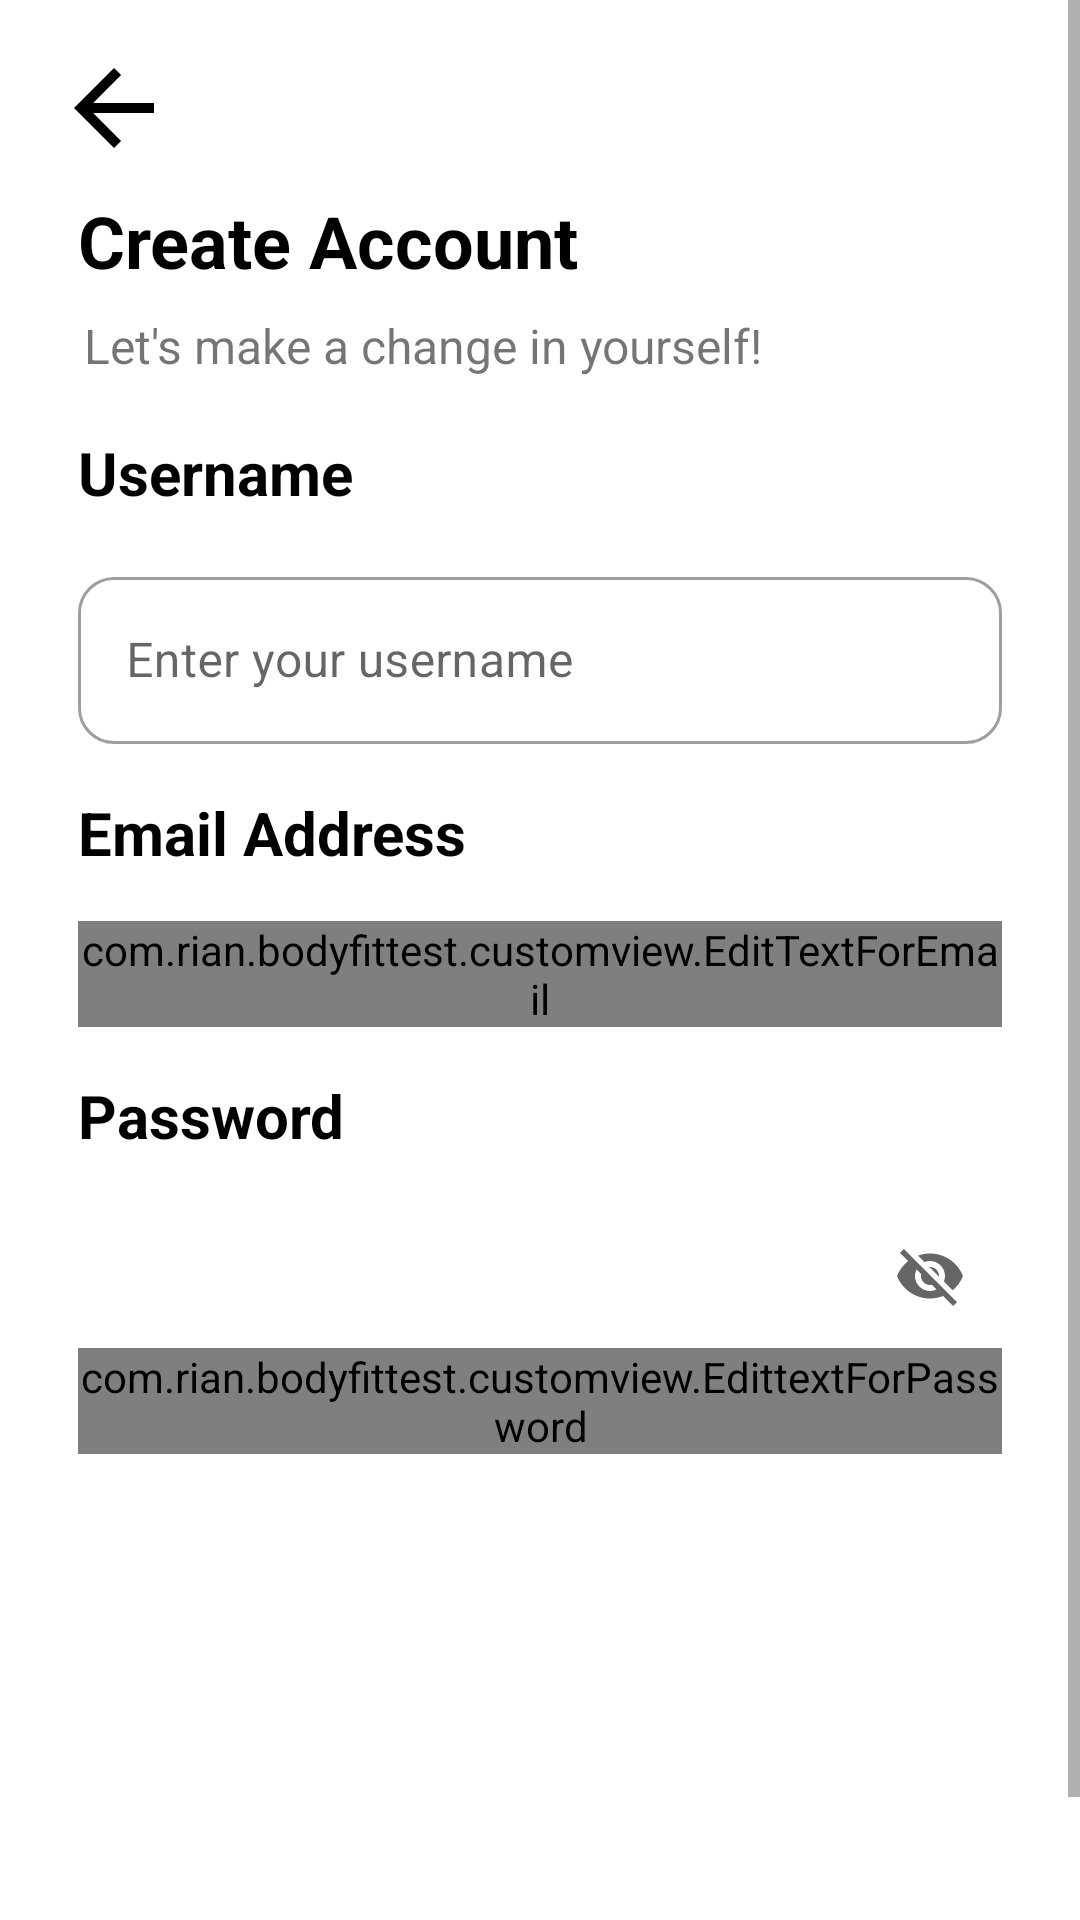

Icons on this 1080px x 1920px Android screen, each with its box as (x1=x1, y1=y1, x2=x2, y2=y2):
arrow back: (x1=74, y1=68, x2=154, y2=148)
